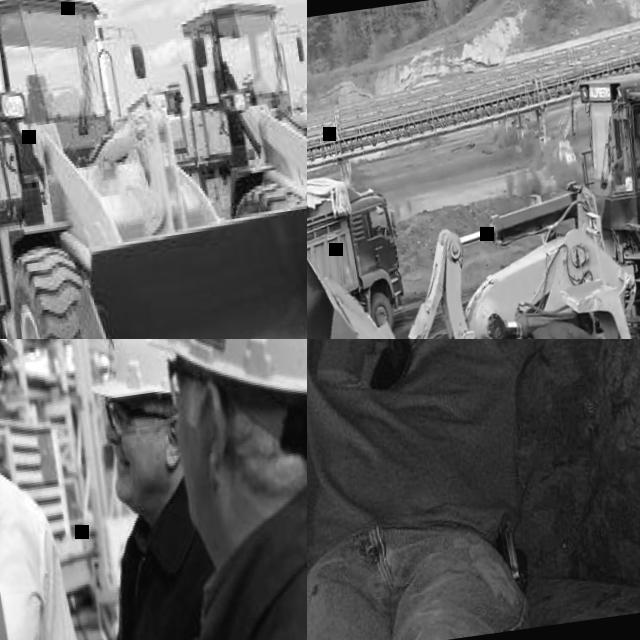Hardhat: (125, 339, 307, 417), (75, 339, 188, 404)
NO-Mask: (171, 400, 219, 537), (109, 433, 175, 511)
NO-Safety Vest: (307, 339, 535, 550), (87, 510, 244, 640), (145, 531, 307, 640), (0, 447, 83, 640), (620, 138, 640, 172)
Person: (307, 339, 640, 640), (29, 339, 247, 640), (98, 339, 307, 640), (0, 339, 111, 640), (607, 125, 640, 175)
vehicle: (0, 0, 307, 339), (307, 46, 640, 339), (134, 0, 307, 339), (307, 162, 419, 339)
